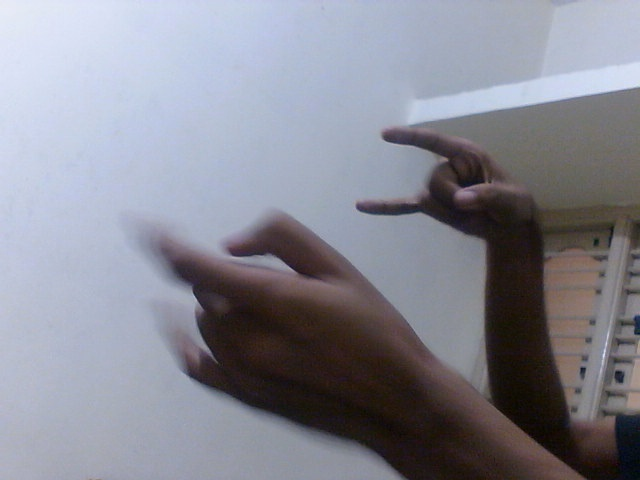hand: (117, 205, 431, 443), (353, 123, 540, 241)
